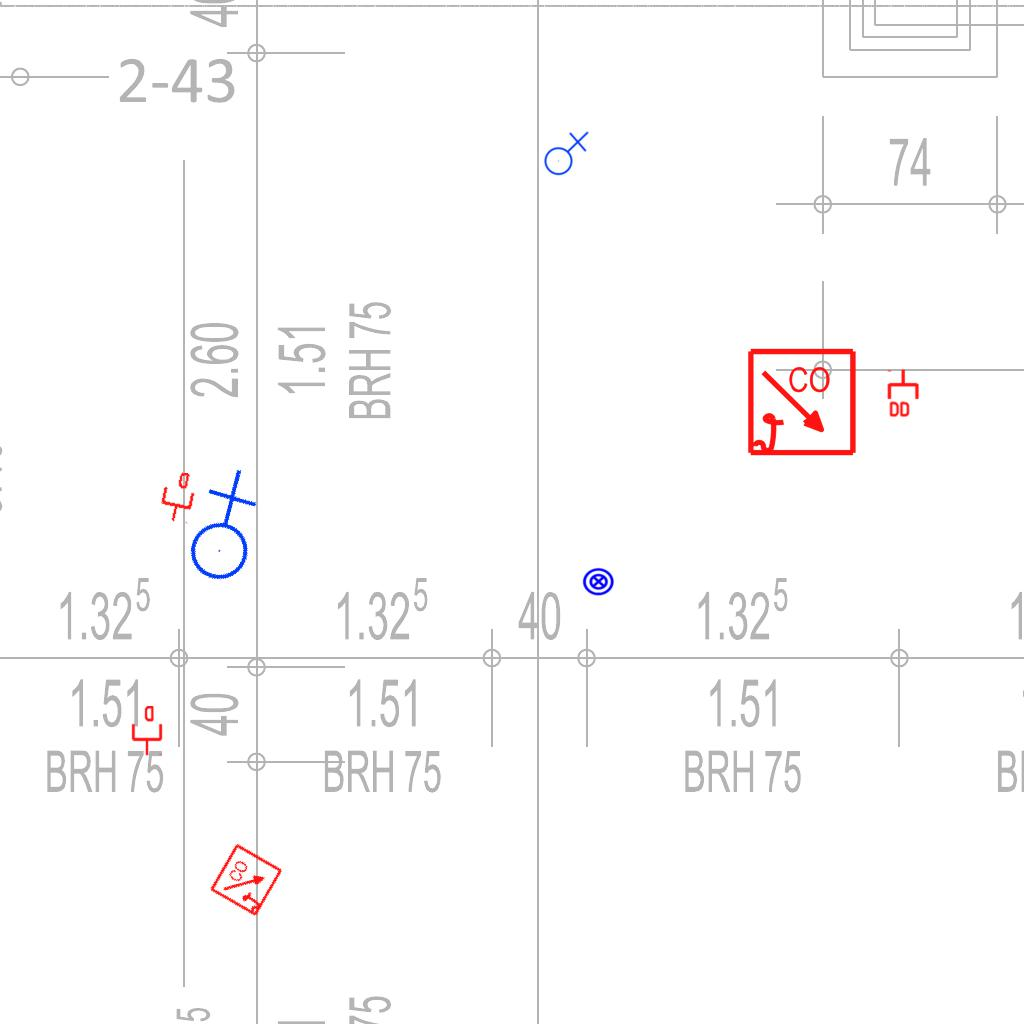Datenanschluss_einfach: (156, 469, 200, 525), (129, 705, 165, 757)
Datenanschluss_zweifach: (887, 368, 921, 419)
Elektroanschluss_allgemein_230V_Geraeteanschlussdose_230V: (153, 463, 288, 597), (540, 129, 589, 176)
ROA_Rauchmelder_optisch_mit_Signalgeber_(Sockelsirene): (746, 347, 859, 460), (208, 841, 286, 919)
Taster_beleuchtet: (582, 565, 615, 598)
